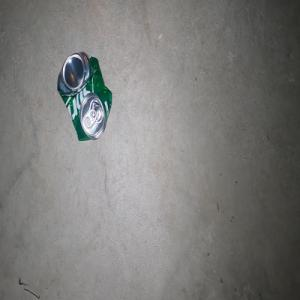SodaCan: (57, 50, 112, 141)
